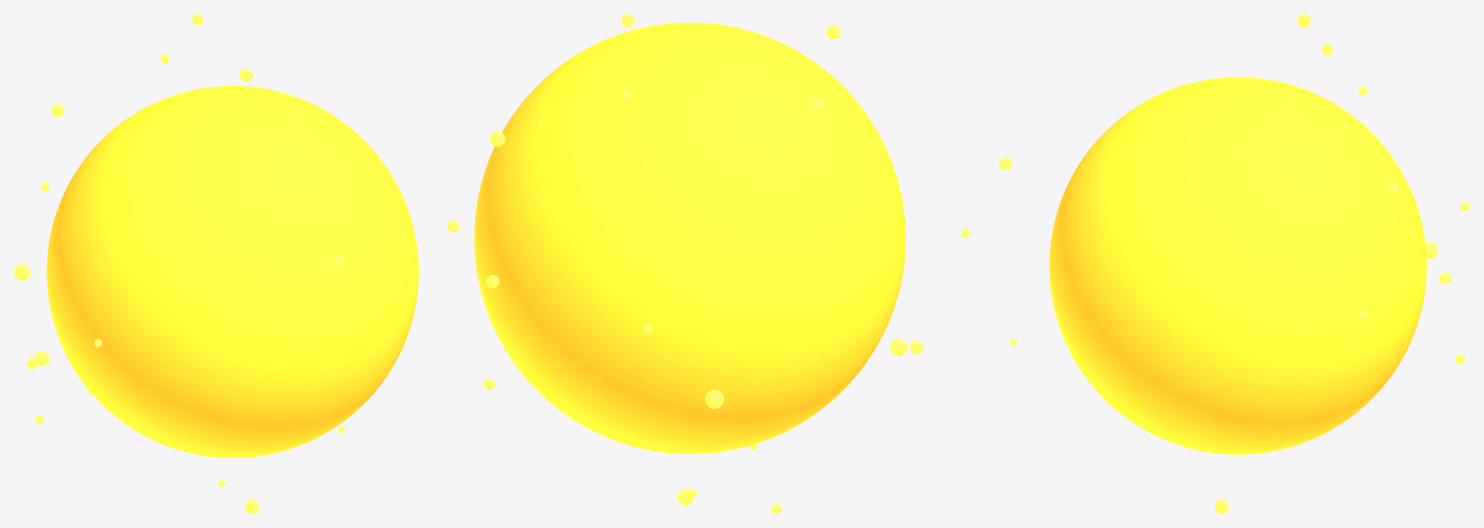
Rendered from golden_energy_orb.glb.
3 views of the same model, side by side, from view 1: azimuth 30°, elevation 25°; view 2: azimuth 150°, elevation 25°; view 3: azimuth 270°, elevation 25° (orthographic). The views are drawn at different scales.
Parts seen in each view (by area): view 1: GoldenOrb; view 2: GoldenOrb; view 3: GoldenOrb.
Part boxes in pixels (bbox=[...]): GoldenOrb: bbox=[46, 86, 418, 458]; GoldenOrb: bbox=[474, 22, 905, 453]; GoldenOrb: bbox=[1049, 77, 1426, 454].
Size of the model in its own units: 2.26 by 2.73 by 2.49.
